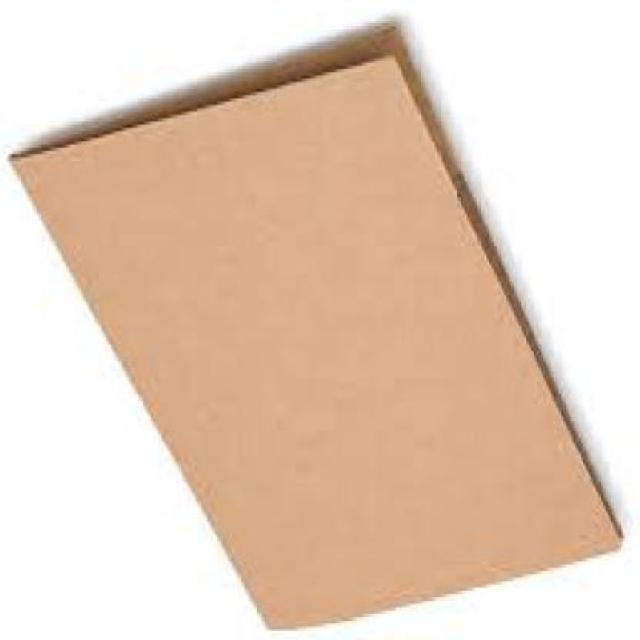CARDBOARD: (5, 36, 620, 633)
